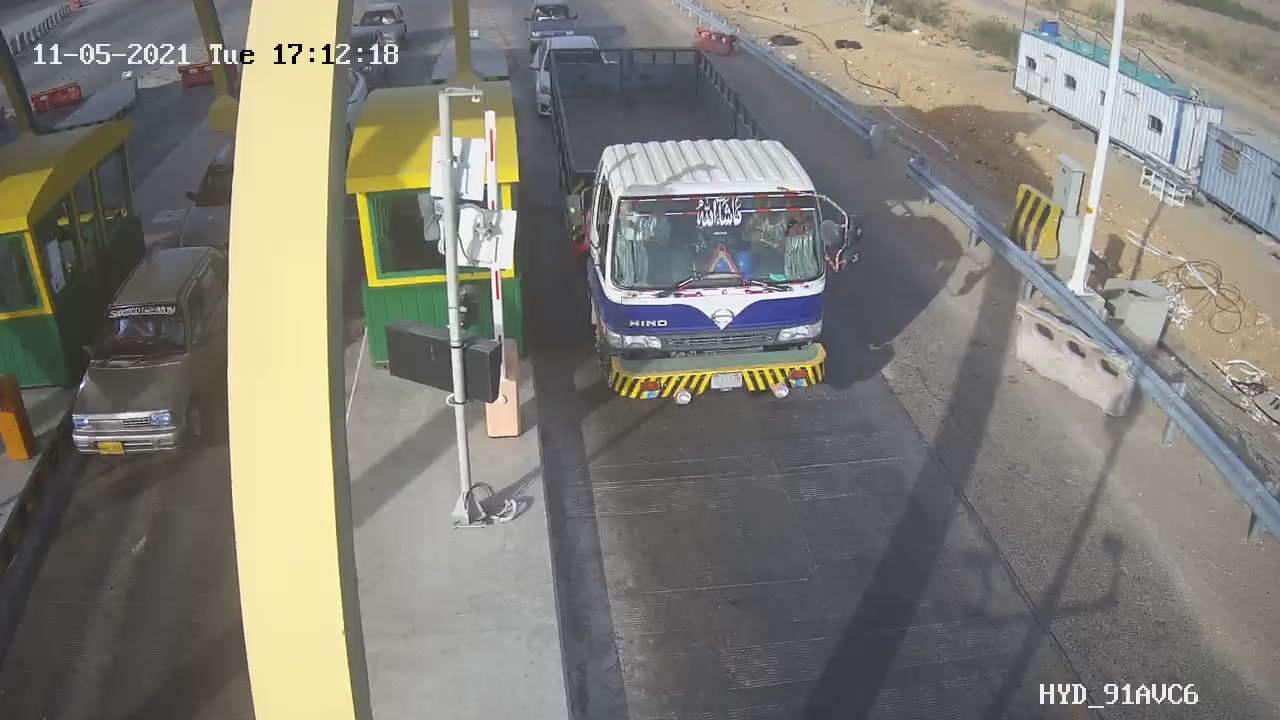F5: (526, 26, 890, 424)
